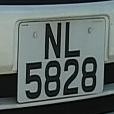2: (61, 58, 82, 97)
5: (22, 61, 45, 102)
8: (42, 61, 64, 100), (80, 55, 98, 95)
L: (64, 20, 84, 58)
N: (43, 19, 63, 62)
